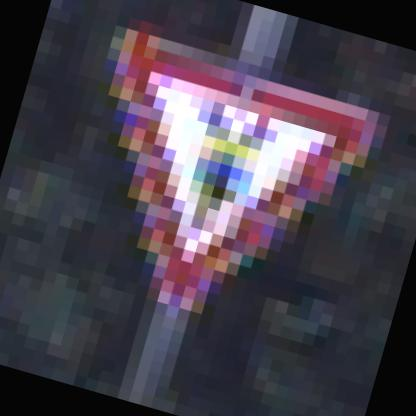crosswalk: (8, 14, 410, 398)
